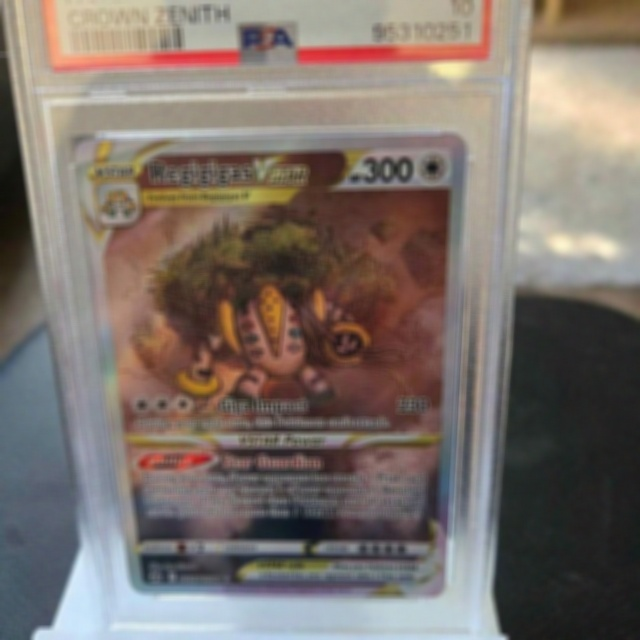card: (74, 132, 470, 599)
